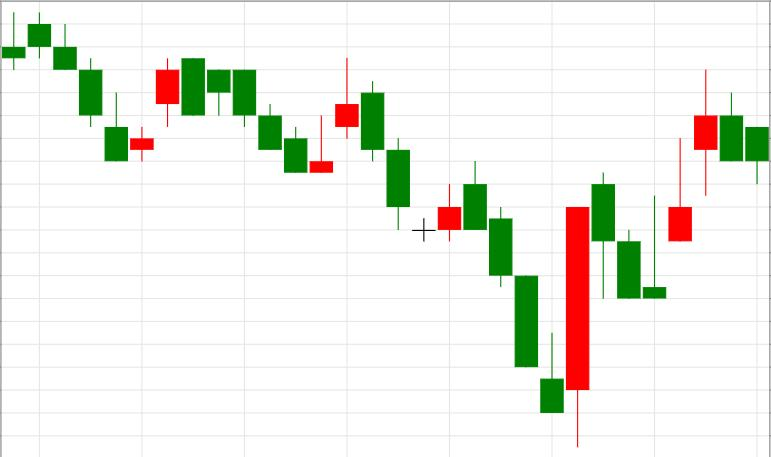bullish_engulfing_rise: (361, 80, 589, 448)
